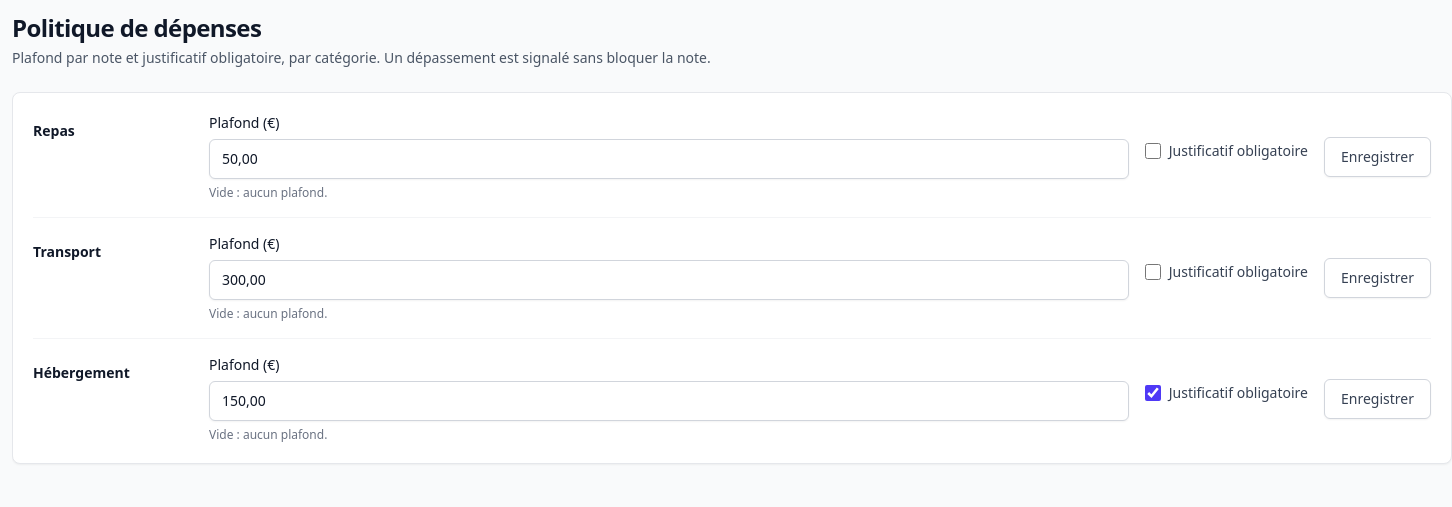
Test: PolicyPage › C3 – un refus du serveur sur le plafond est affiché sous le champ
Expected: the element "Repas" is shown, [33, 113, 1431, 201]
Step 1. Click the button "Enregistrer" in the row of "Repas" → (1378, 157), box [1324, 137, 1431, 177]
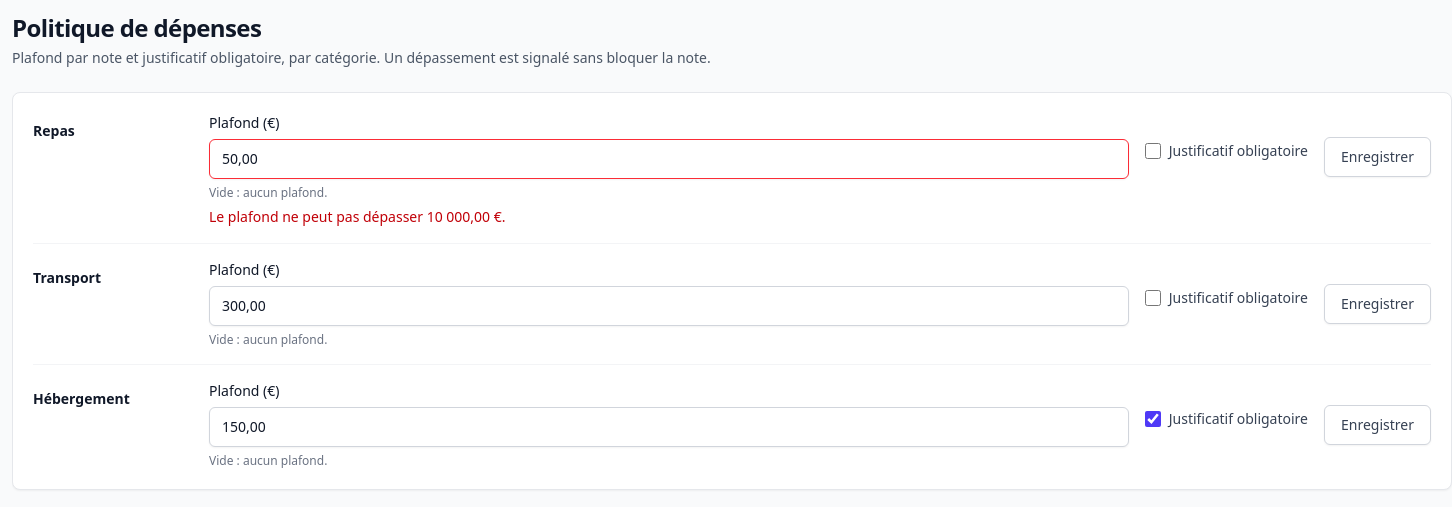
Expected: the text "Le plafond ne peut pas dépasser 10 000,00 €." is shown, [209, 207, 506, 226]
